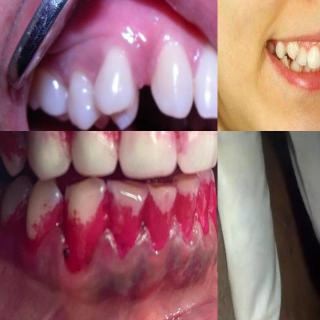Gum Swelling: (21, 223, 207, 287)
maligned: (286, 42, 299, 60)
